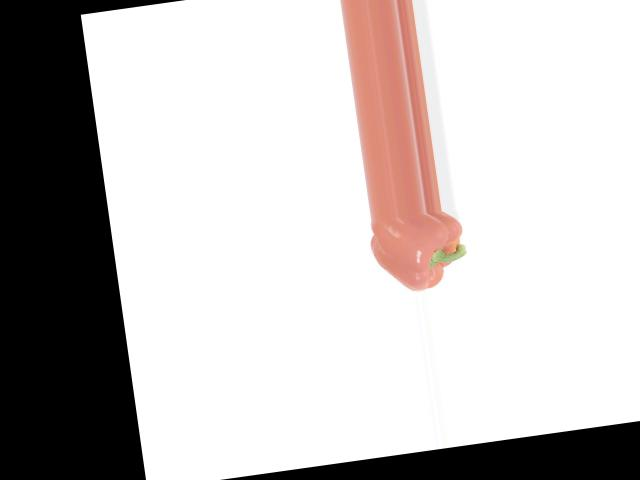bell_pepper: (356, 205, 483, 298)
